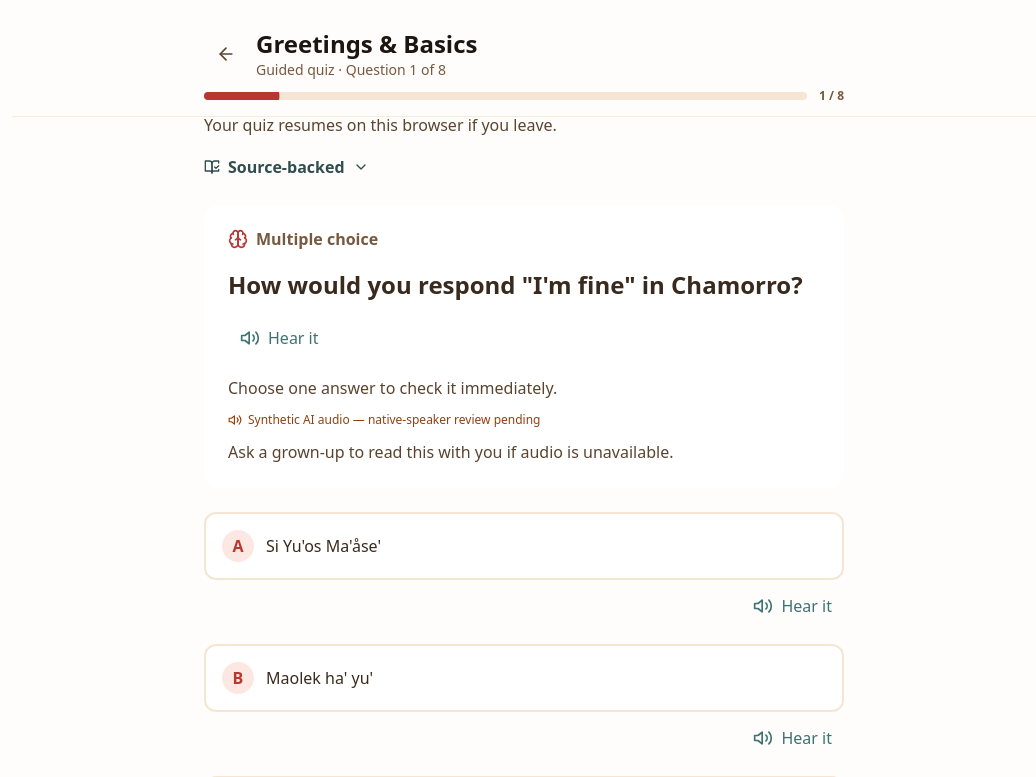
topic surface navigation › returns a topic quiz to its workspace
The image size is (1036, 777).
(page scrolled)
Click the button named "Leave quiz and return to Greetings & Basics": coordinates (226, 54) x1=204 y1=32 x2=248 y2=76
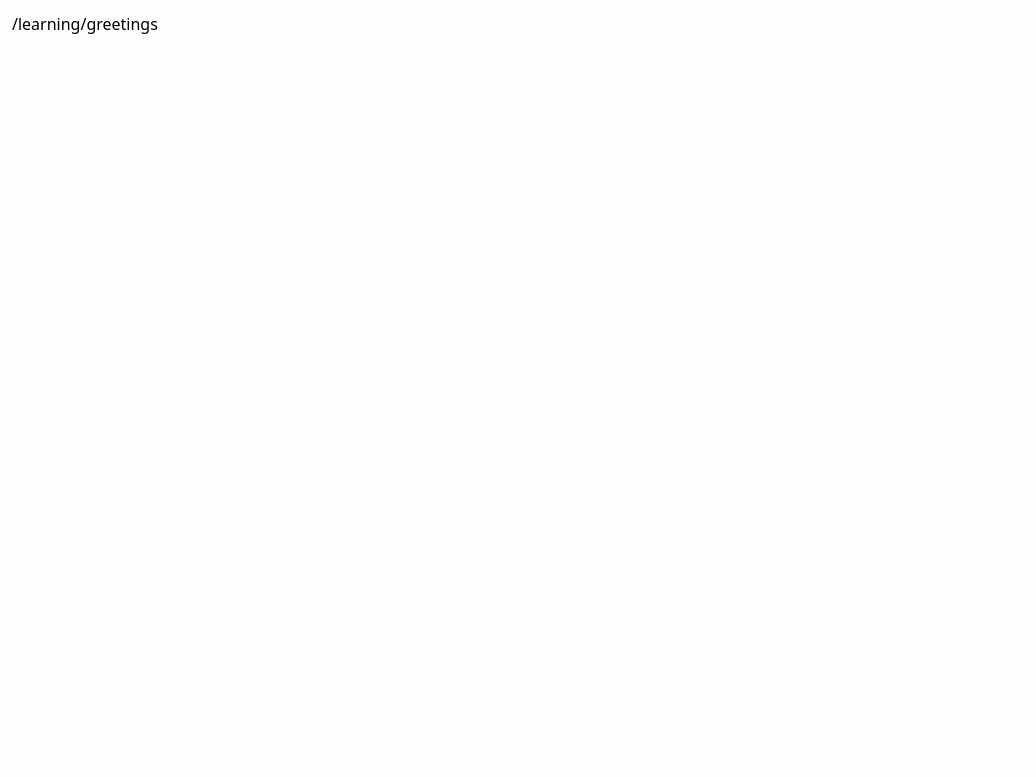
Now the text with test id "current-location" reads "/learning/greetings", box x1=12 y1=13 x2=158 y2=35
